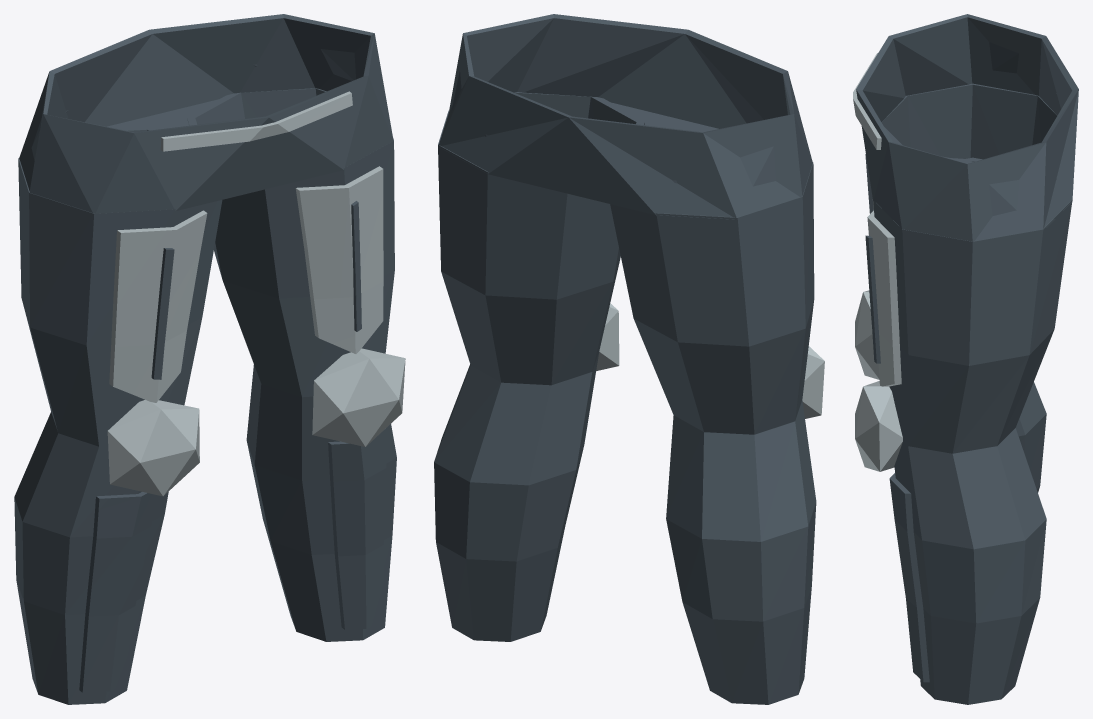
The model's file is plate_legs-female.glb.
The picture shows the model from 3 angles, left to right: view 1: azimuth 30°, elevation 25°; view 2: azimuth 150°, elevation 25°; view 3: azimuth 270°, elevation 25°; orthographic projection. The views are drawn at different scales.
Parts seen in each view (by area): view 1: plate trouser pelvis yoke, plate trouser leg -1, plate trouser leg 1, Thigh plate -1, Thigh plate 1, Shin plate -1, Shin plate 1, Knee plate -1, Knee plate 1, Trouser waist facing, Thigh folded center ridge -1, Thigh folded center ridge 1; view 2: plate trouser leg -1, plate trouser leg 1, plate trouser pelvis yoke, Knee plate -1, Knee plate 1; view 3: plate trouser leg 1, plate trouser pelvis yoke, plate trouser leg -1, Thigh plate 1, Shin plate 1, Knee plate 1, Knee plate -1, Thigh folded center ridge 1, Trouser waist facing.
Boxes of the visible parts, left/top/right/bottom form: plate trouser pelvis yoke: left=19, top=14, right=393, bottom=213; plate trouser leg -1: left=14, top=126, right=222, bottom=704; plate trouser leg 1: left=187, top=88, right=396, bottom=641; Thigh plate -1: left=109, top=210, right=207, bottom=402; Thigh plate 1: left=295, top=166, right=383, bottom=353; Shin plate -1: left=79, top=492, right=157, bottom=692; Shin plate 1: left=328, top=428, right=386, bottom=629; Knee plate -1: left=107, top=400, right=199, bottom=496; Knee plate 1: left=312, top=348, right=405, bottom=446; Trouser waist facing: left=160, top=91, right=352, bottom=151; Thigh folded center ridge -1: left=151, top=248, right=174, bottom=379; Thigh folded center ridge 1: left=351, top=201, right=361, bottom=331; plate trouser leg -1: left=610, top=131, right=816, bottom=704; plate trouser leg 1: left=434, top=92, right=644, bottom=641; plate trouser pelvis yoke: left=439, top=14, right=812, bottom=219; Knee plate -1: left=802, top=346, right=824, bottom=418; Knee plate 1: left=596, top=303, right=619, bottom=370; plate trouser leg 1: left=873, top=157, right=1072, bottom=704; plate trouser pelvis yoke: left=856, top=14, right=1078, bottom=241; plate trouser leg -1: left=881, top=83, right=1057, bottom=492; Thigh plate 1: left=867, top=210, right=901, bottom=386; Shin plate 1: left=889, top=473, right=929, bottom=682; Knee plate 1: left=855, top=381, right=902, bottom=471; Knee plate -1: left=855, top=290, right=879, bottom=379; Thigh folded center ridge 1: left=865, top=235, right=880, bottom=363; Trouser waist facing: left=853, top=53, right=881, bottom=149.
Size of the model in its own units: 2.28 by 3.45 by 1.31.
